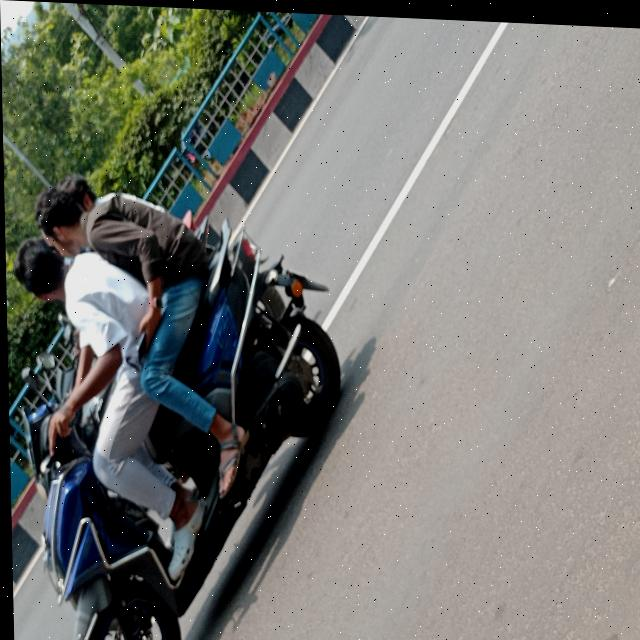bike: (5, 250, 309, 640)
